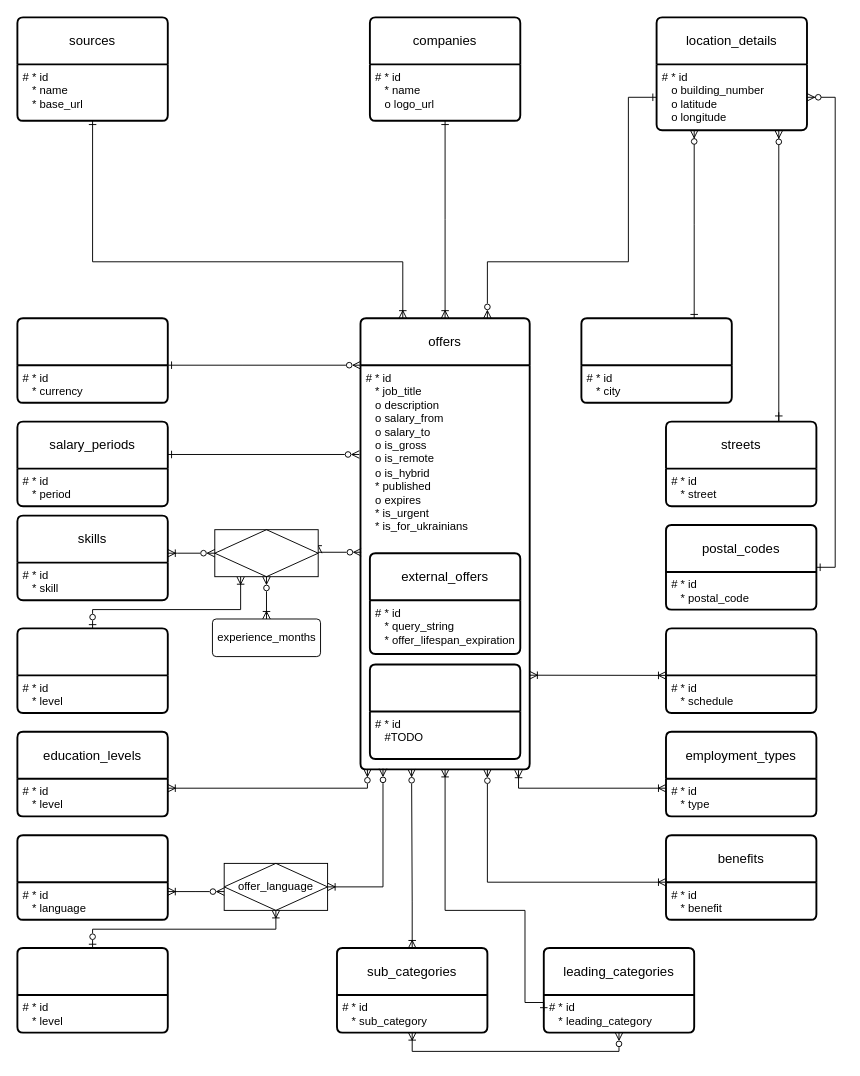
The diagram is 860 pixels wide and 1076 high, and some of its shapes have lost their labels. Each missing label, with the box of its shape:
cities: (580, 317, 732, 403)
currencies: (16, 317, 168, 403)
employment_schedules: (665, 627, 817, 713)
experience_levels: (16, 627, 168, 713)
internal_offers: (368, 663, 521, 759)
language_levels: (16, 947, 168, 1033)
languages: (16, 834, 168, 920)
offer_skill: (214, 529, 318, 577)
